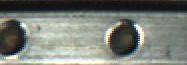joints: (103, 17, 144, 61), (0, 17, 30, 57)
press: (3, 0, 140, 16)
